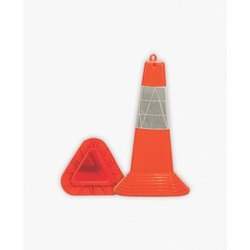cones: (116, 53, 193, 198), (59, 136, 123, 199)
